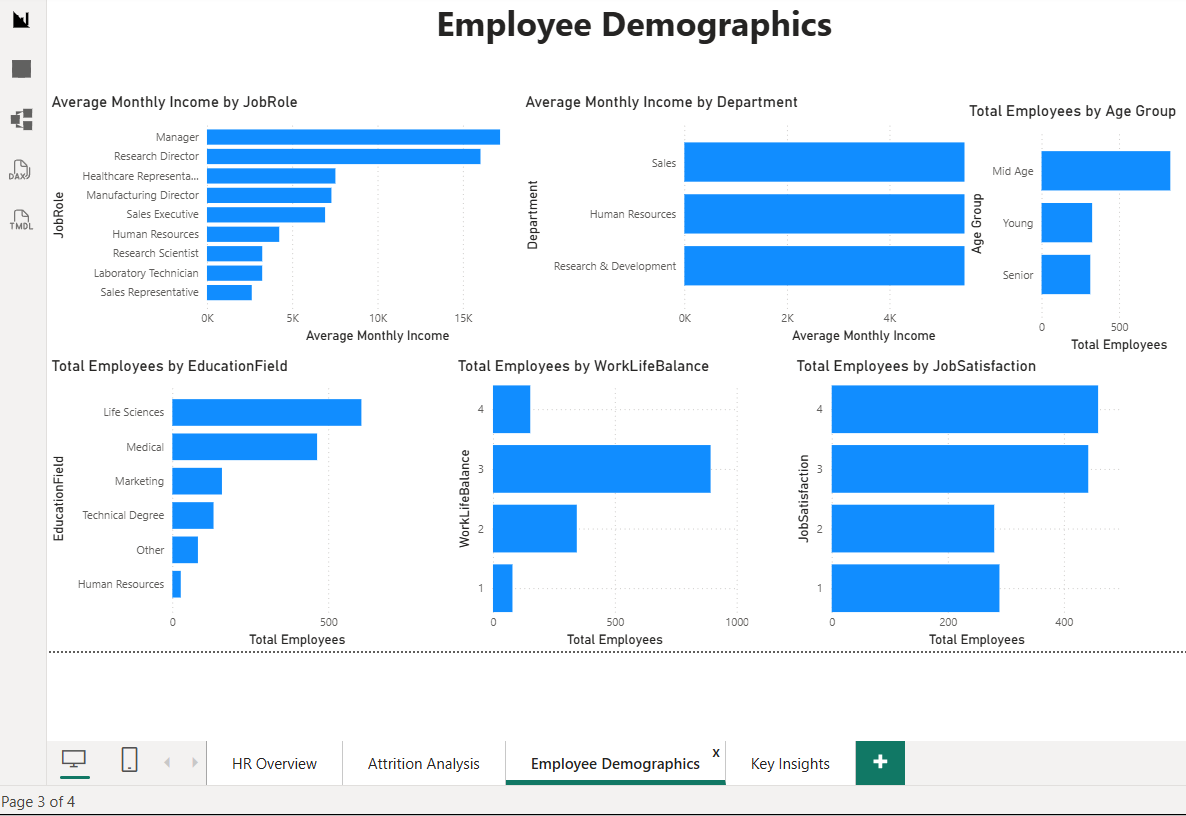

The dashboard page shown, as its layout file describes it:
{"tool":"powerbi","page":{"name":"Employee Demographics","canvas":[1280,720],"ordinal":2},"visuals":[{"type":"barChart","fields":{"Y":["HR-Employee-Attrition.Average Monthly Income"],"Category":["HR-Employee-Attrition.JobRole"]},"box":[0,107,565.4,279.9],"z":0},{"type":"barChart","fields":{"Y":["HR-Employee-Attrition.Average Monthly Income"],"Category":["HR-Employee-Attrition.Department"]},"box":[520.1,107,585.9,279.9],"z":1000},{"type":"barChart","fields":{"Y":["HR-Employee-Attrition.Total Employees"],"Category":["HR-Employee-Attrition.Age Group"]},"box":[1007.2,116.6,273.1,279.9],"z":2000},{"type":"barChart","fields":{"Y":["HR-Employee-Attrition.Total Employees"],"Category":["HR-Employee-Attrition.EducationField"]},"box":[0,396.6,426.8,323.8],"z":3000},{"type":"barChart","fields":{"Y":["HR-Employee-Attrition.Total Employees"],"Category":["HR-Employee-Attrition.WorkLifeBalance"]},"box":[446,396.6,329.3,323.8],"z":5000},{"type":"textbox","box":[0,0,1280.3,100.2],"z":5002},{"type":"barChart","fields":{"Y":["HR-Employee-Attrition.Total Employees"],"Category":["HR-Employee-Attrition.JobSatisfaction"]},"box":[817.8,396.6,377.4,323.8],"z":5003}]}

Visuals, with their boxes on the page's 1280x720 design canvas (x1, y1, x2, y2). These are canvas units, not pixel positions in the 1186x816 screenshot, which may show the page scaled, cropped or inside an application window:
barChart - HR-Employee-Attrition.Average Monthly Income x HR-Employee-Attrition.JobRole: 0,107,565,387
barChart - HR-Employee-Attrition.Average Monthly Income x HR-Employee-Attrition.Department: 520,107,1106,387
barChart - HR-Employee-Attrition.Total Employees x HR-Employee-Attrition.Age Group: 1007,117,1280,396
barChart - HR-Employee-Attrition.Total Employees x HR-Employee-Attrition.EducationField: 0,397,427,720
barChart - HR-Employee-Attrition.Total Employees x HR-Employee-Attrition.WorkLifeBalance: 446,397,775,720
textbox: 0,0,1280,100
barChart - HR-Employee-Attrition.Total Employees x HR-Employee-Attrition.JobSatisfaction: 818,397,1195,720
